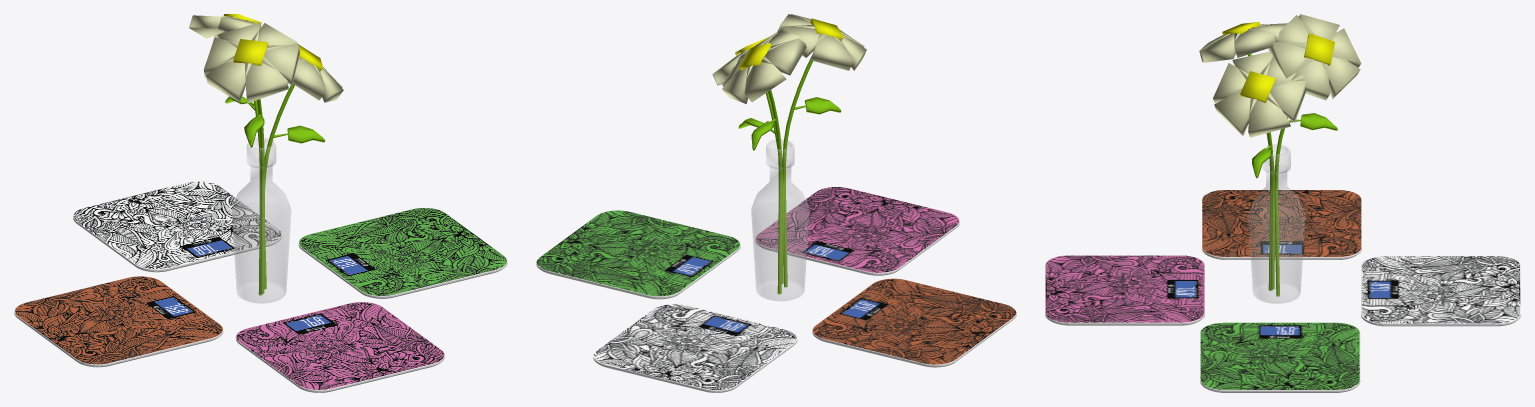
The model's file is DIGIT PRO.glb.
3 views of the same model, side by side, from view 1: azimuth 30°, elevation 25°; view 2: azimuth 150°, elevation 25°; view 3: azimuth 270°, elevation 25° (orthographic). The views are drawn at different scales.
Visible parts, largest first — view 1: Digit Pro New.003, Digit Pro New, Digit Pro New.002, Digit Pro New.001, Circle.025, Bottle with flowers; view 2: Digit Pro New.002, Digit Pro New.003, Digit Pro New.001, Digit Pro New, Circle.025, Bottle with flowers; view 3: Circle.025, Digit Pro New.002, Digit Pro New, Digit Pro New.001, Digit Pro New.003, Bottle with flowers.
Boxes of the visible parts, <box> form: Digit Pro New.003: <box>14,276,223,367</box>; Digit Pro New: <box>235,302,444,392</box>; Digit Pro New.002: <box>298,208,507,298</box>; Digit Pro New.001: <box>73,181,281,272</box>; Circle.025: <box>189,14,343,295</box>; Bottle with flowers: <box>232,137,290,303</box>; Digit Pro New.002: <box>536,210,740,299</box>; Digit Pro New.003: <box>812,278,1016,367</box>; Digit Pro New.001: <box>593,304,797,392</box>; Digit Pro New: <box>755,187,959,275</box>; Circle.025: <box>712,14,866,294</box>; Bottle with flowers: <box>751,139,809,300</box>; Circle.025: <box>1199,14,1361,296</box>; Digit Pro New.002: <box>1200,322,1360,392</box>; Digit Pro New: <box>1045,255,1204,325</box>; Digit Pro New.001: <box>1361,256,1520,326</box>; Digit Pro New.003: <box>1202,190,1361,259</box>; Bottle with flowers: <box>1248,144,1305,303</box>.
Size of the model in its own units: 0.8898 by 0.5528 by 0.8927.
12 materials, 4 textured.
